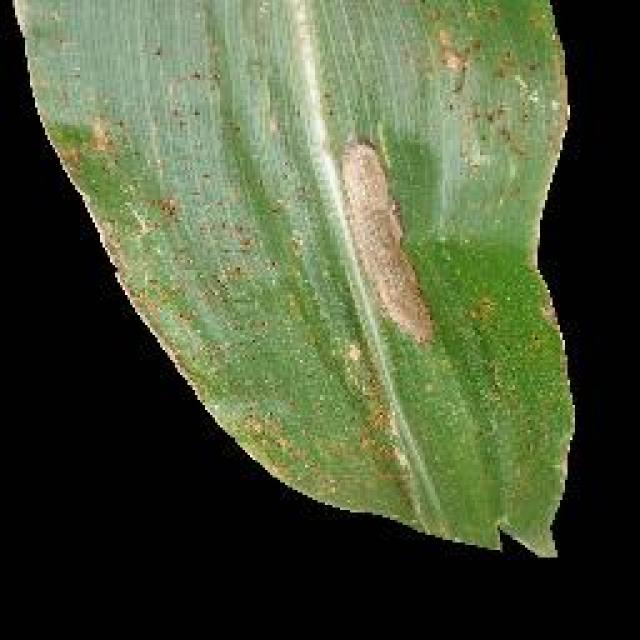Corn___Common_rust: (5, 0, 590, 578)
